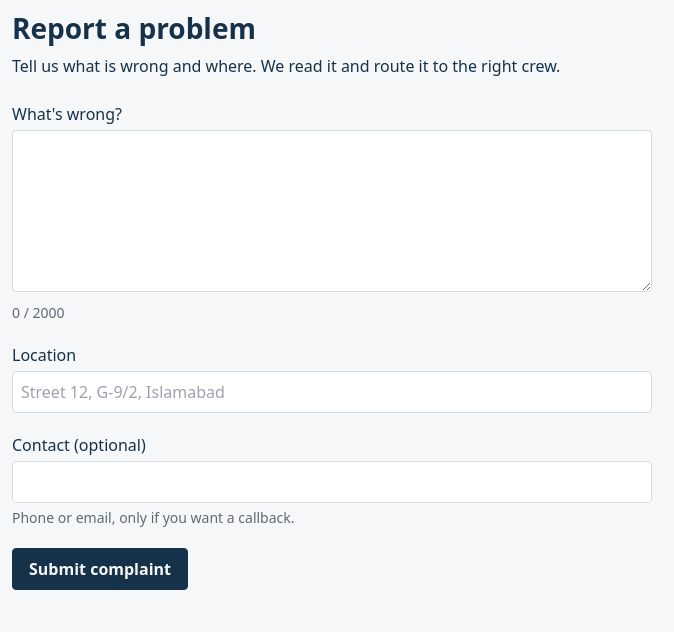
Scenario: 4. server 400 fields[] appear under the matching input
This screenshot has width=674, height=632.
Type "A burst pipe is flooding the whole street" into the text box labelled "What's wrong?" at point(332, 211), box [12, 130, 652, 292]
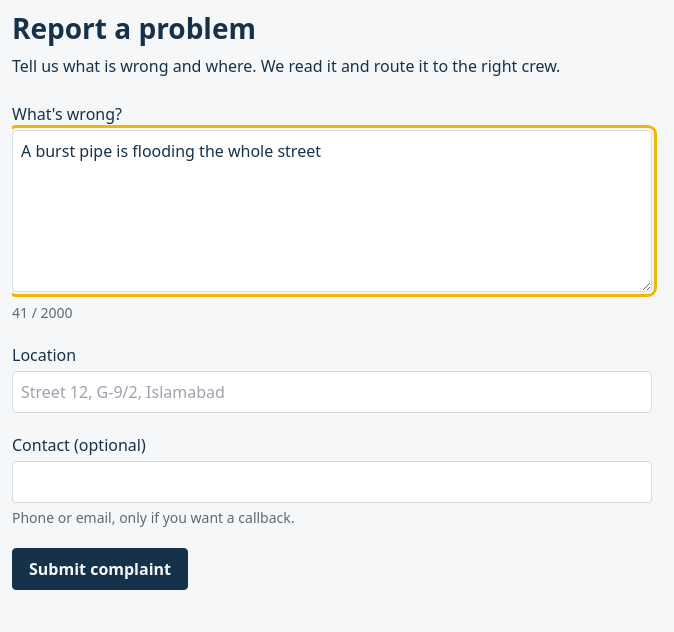
Type "Test Street 12" into the field labelled "Location" at point(332, 392), box [12, 371, 652, 413]
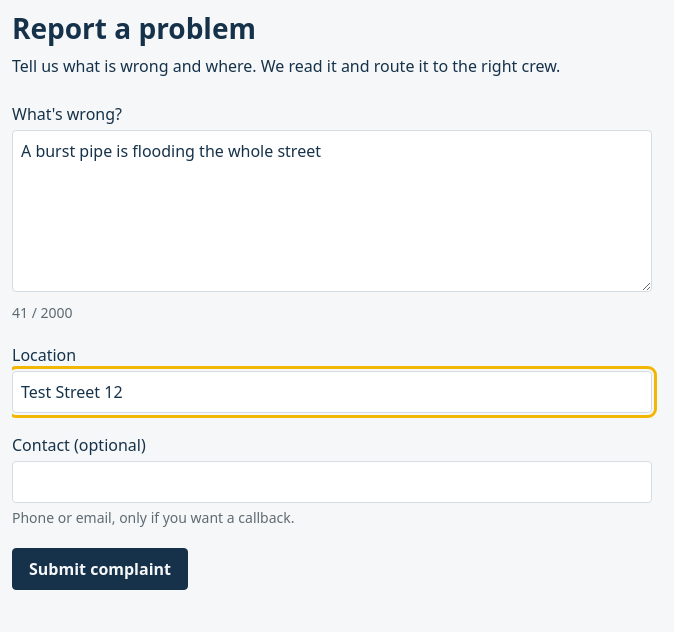
Click the button "Submit complaint" at point(100, 569), box [12, 548, 188, 590]
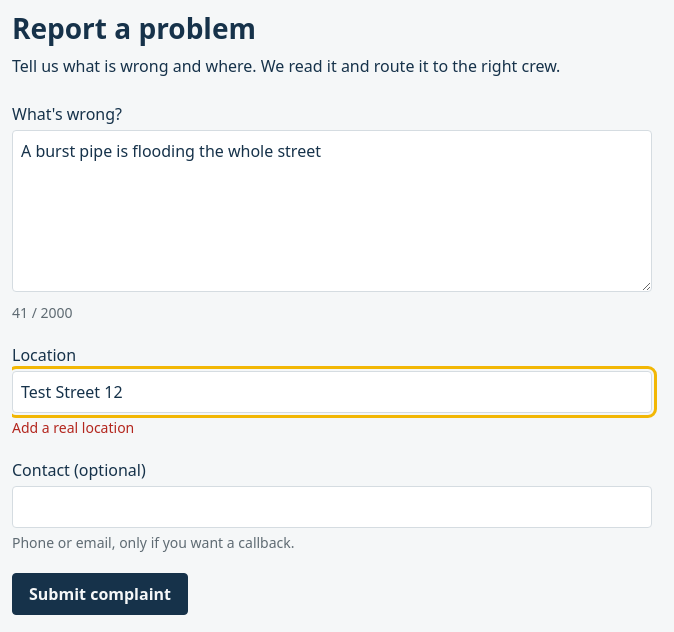
Result: the text "Add a real location" is shown at [12, 418, 134, 437]
